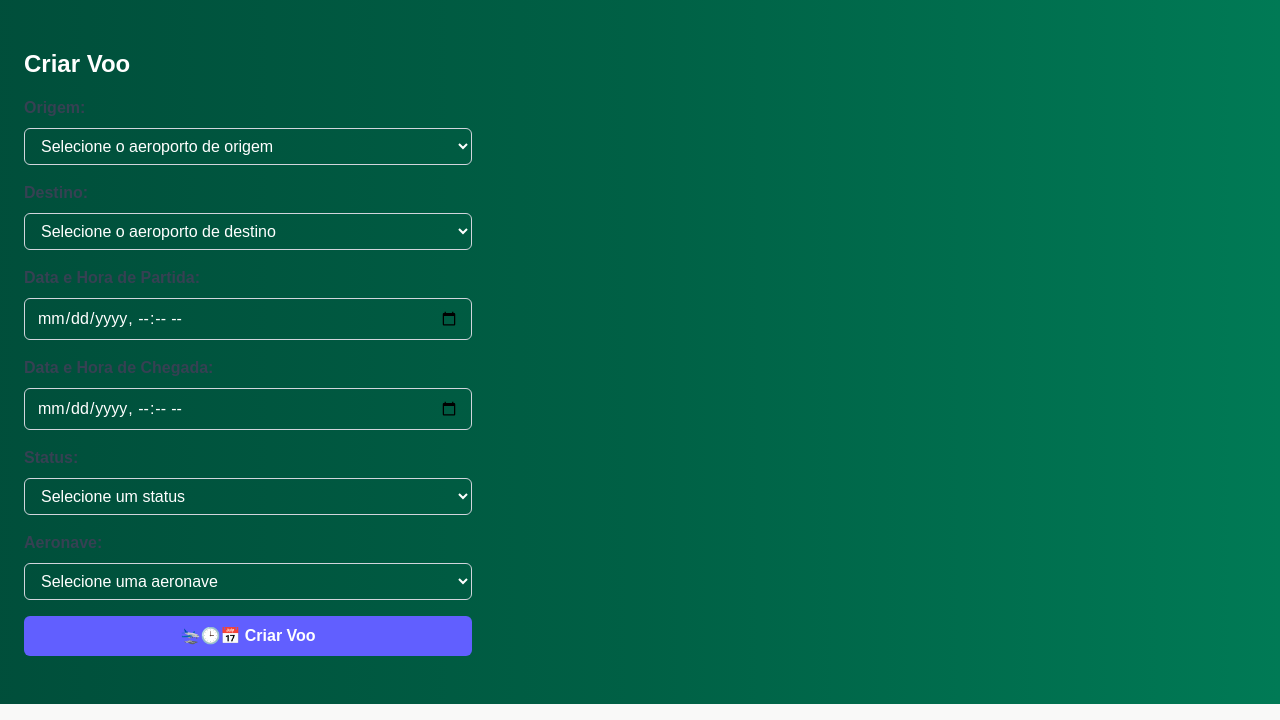
Scenario: Componente CreateFlight › deve exibir mensagem de erro ao enviar formulário vazio
This screenshot has width=1280, height=720.
Click the button with test id "create-flight". click: (248, 636)
box: [24, 616, 472, 656]
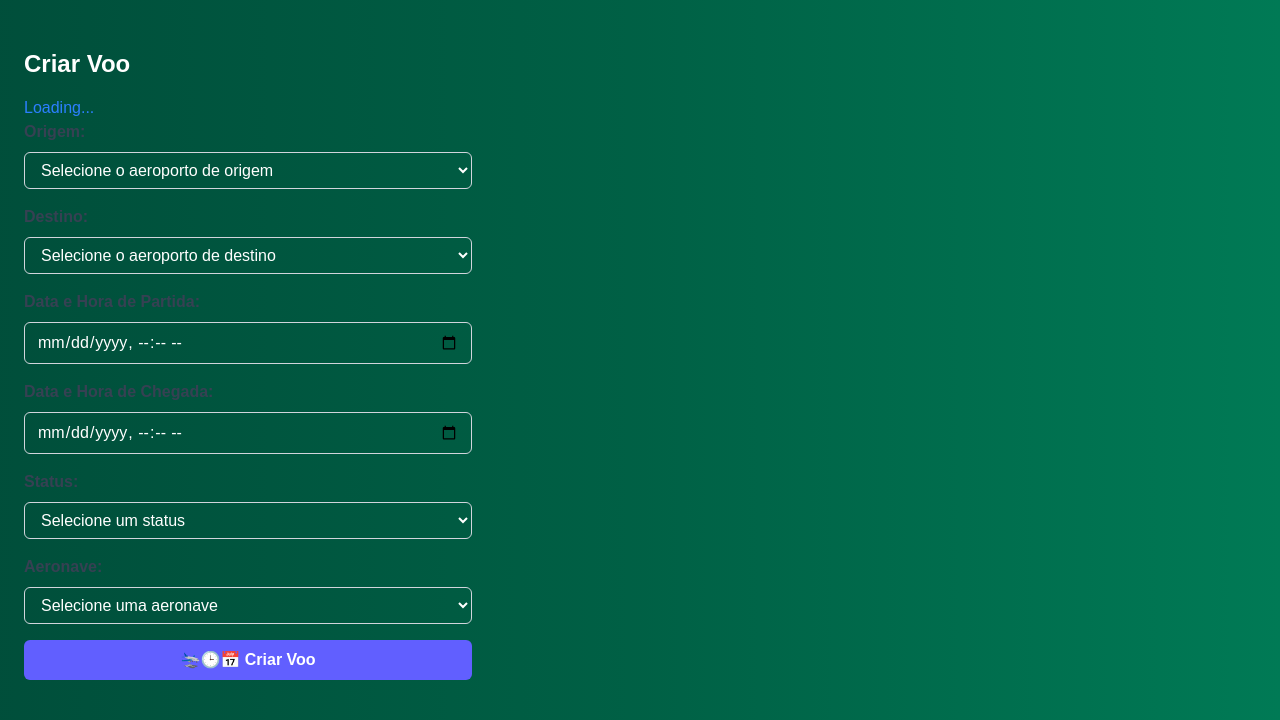
Expected: the text "Loading..." is shown, [24, 99, 94, 116]
